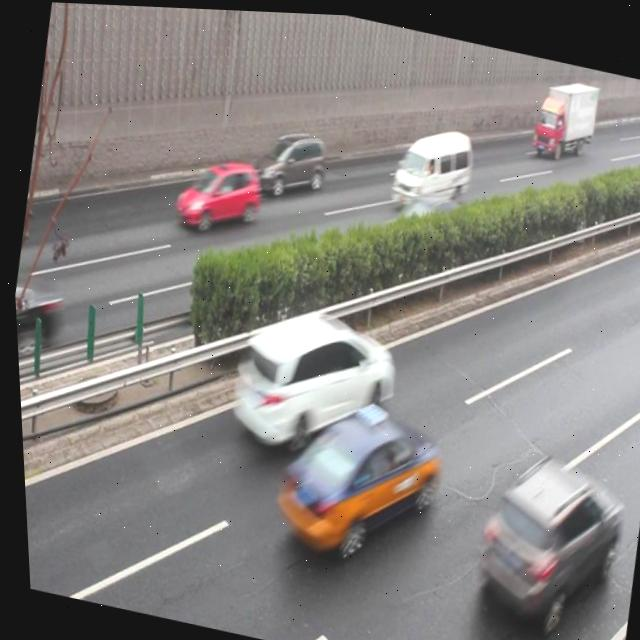bus: (525, 69, 602, 160)
car: (259, 387, 443, 571), (459, 437, 625, 634), (217, 291, 399, 466), (367, 178, 466, 274), (167, 148, 265, 237), (246, 122, 332, 204), (11, 280, 63, 380)
truck: (383, 115, 477, 217)
